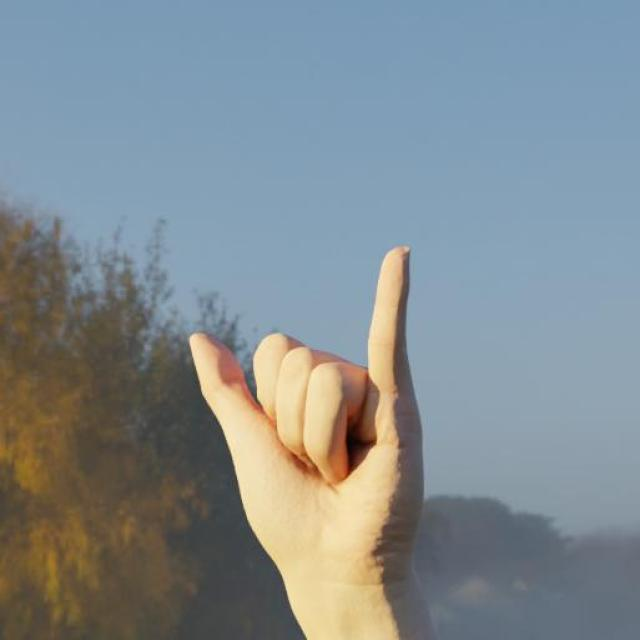Y: (174, 253, 446, 587)
